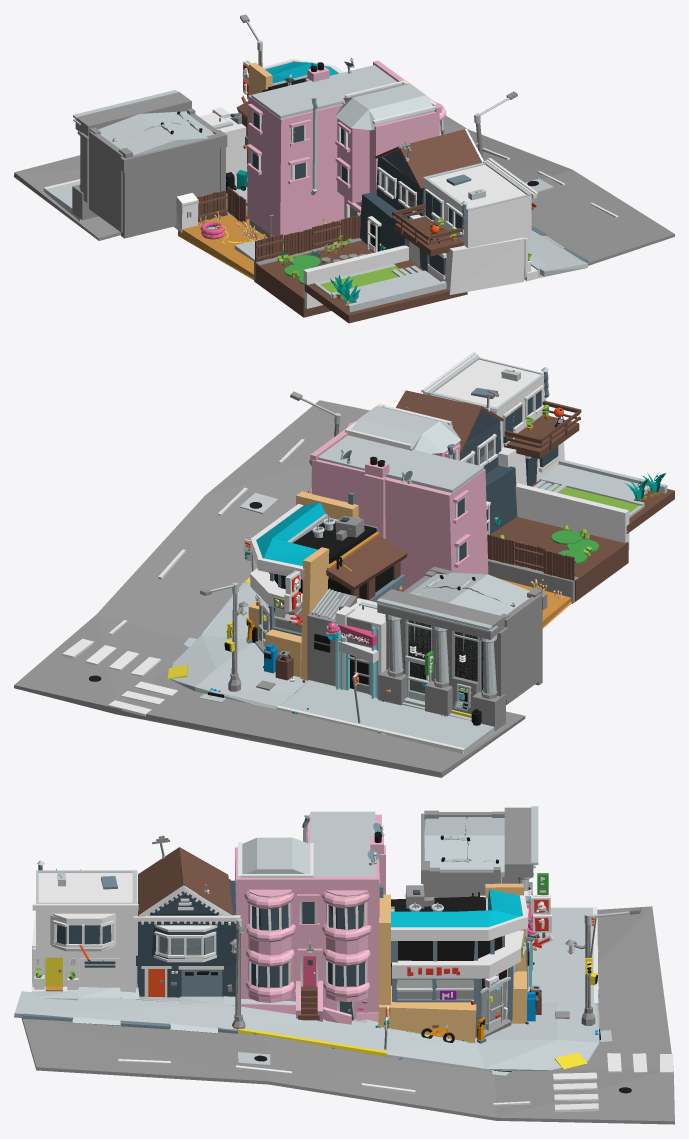
The model's file is SF Street by Alan Zimmerman - cnTMgkFoTS0.glb.
3 renders of one model, top to bottom at view 1: azimuth 30°, elevation 25°; view 2: azimuth 150°, elevation 25°; view 3: azimuth 270°, elevation 25°, orthographic. The views are drawn at different scales.
Visible parts, largest first — view 1: group892455447, group1855824391, group284740563, group247688703, group562006303, group1933068889, group522730016, group1421539807, group1348016452, group1667746924, group1350899225, group1583477956 (+24 smaller); view 2: group892455447, group1855824391, group1105155231, group1179754258, group1933068889, group998772054, group1350899225, group247688703, group522730016, group1421539807, group1348016452, group512663821 (+34 smaller); view 3: group892455447, group1105155231, group1583477956, group247688703, group1179754258, group1933068889, group522730016, group1983641924, group1671810338, group1362634429, group290091007, group1348016452 (+41 smaller).
Boxes of the visible parts, left/top/right/bottom form: group892455447: left=14, top=115, right=674, bottom=265; group1855824391: left=247, top=95, right=344, bottom=238; group284740563: left=121, top=149, right=219, bottom=238; group247688703: left=422, top=164, right=531, bottom=247; group562006303: left=409, top=214, right=524, bottom=294; group1933068889: left=251, top=65, right=396, bottom=118; group522730016: left=98, top=111, right=214, bottom=155; group1421539807: left=89, top=131, right=123, bottom=232; group1348016452: left=335, top=83, right=434, bottom=130; group1667746924: left=399, top=130, right=481, bottom=189; group1350899225: left=255, top=240, right=373, bottom=317; group1583477956: left=342, top=102, right=439, bottom=218; group892455447: left=14, top=400, right=525, bottom=777; group1855824391: left=384, top=469, right=488, bottom=591; group1105155231: left=170, top=582, right=309, bottom=708; group1179754258: left=280, top=680, right=502, bottom=753; group1933068889: left=317, top=435, right=483, bottom=492; group998772054: left=515, top=483, right=629, bottom=550; group1350899225: left=490, top=517, right=628, bottom=601; group247688703: left=427, top=359, right=546, bottom=448; group522730016: left=409, top=572, right=529, bottom=615; group1421539807: left=504, top=594, right=541, bottom=704; group1348016452: left=351, top=406, right=460, bottom=453; group512663821: left=472, top=627, right=508, bottom=731; group892455447: left=21, top=906, right=674, bottom=1124; group1105155231: left=14, top=991, right=599, bottom=1071; group1583477956: left=235, top=847, right=379, bottom=1018; group247688703: left=36, top=871, right=137, bottom=955; group1179754258: left=527, top=907, right=593, bottom=1003; group1933068889: left=310, top=811, right=375, bottom=876; group522730016: left=423, top=817, right=504, bottom=877; group1983641924: left=378, top=985, right=476, bottom=1043; group1671810338: left=391, top=896, right=502, bottom=966; group1362634429: left=391, top=889, right=522, bottom=927; group290091007: left=392, top=930, right=523, bottom=978; group1348016452: left=242, top=837, right=310, bottom=873.
Size of the model in its own units: 5.77 by 2.36 by 7.6.
